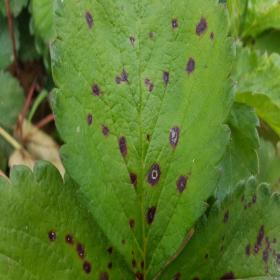Leaf Spot: (46, 0, 238, 279), (0, 160, 142, 279), (154, 175, 279, 279), (239, 29, 279, 56)
